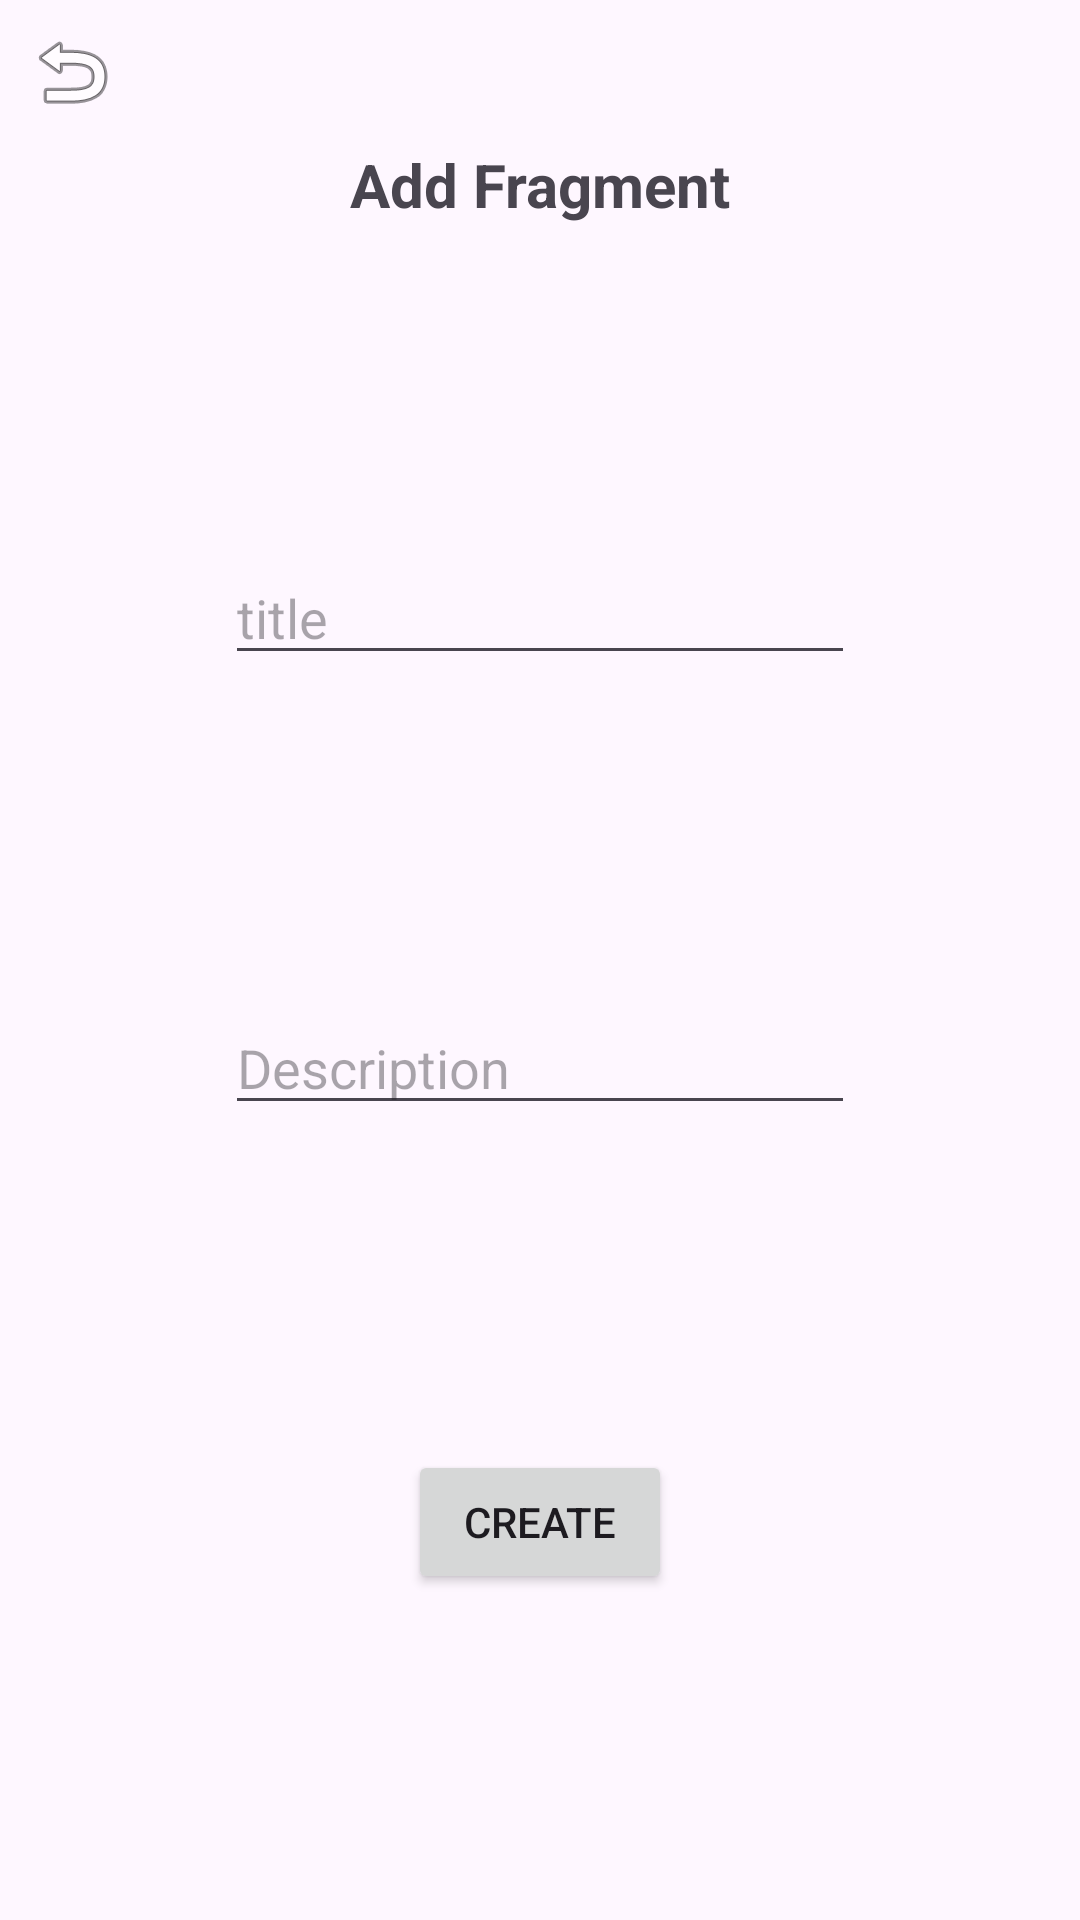

Icons on this 1080w x 1920h Android screen, each with the point to tap as (x=x, y=y):
revert: (x=73, y=72)
